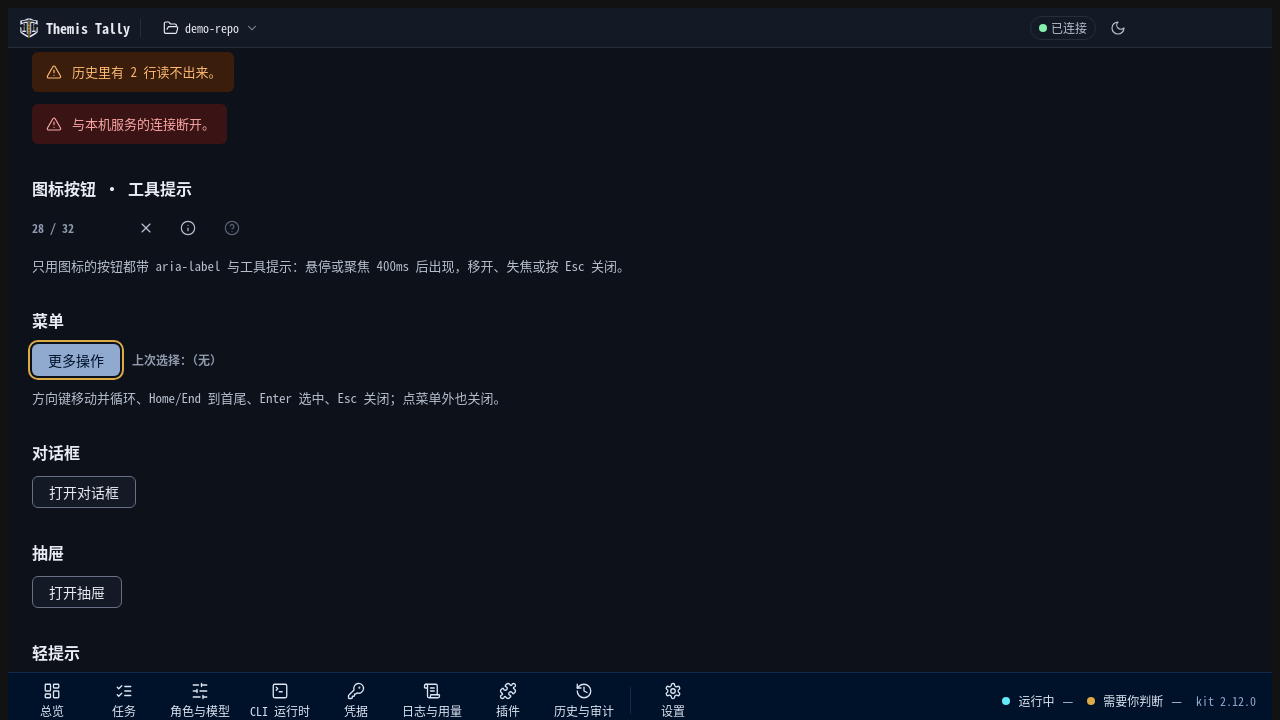
Test: 陈列页的 5 节浮层演示 › 菜单演示：「更多操作」打开菜单，Enter 选中后「上次选择：」变化
The image size is (1280, 720).
(page scrolled)
Click the button "更多操作". click: (76,360)
box: [32,344,120,376]
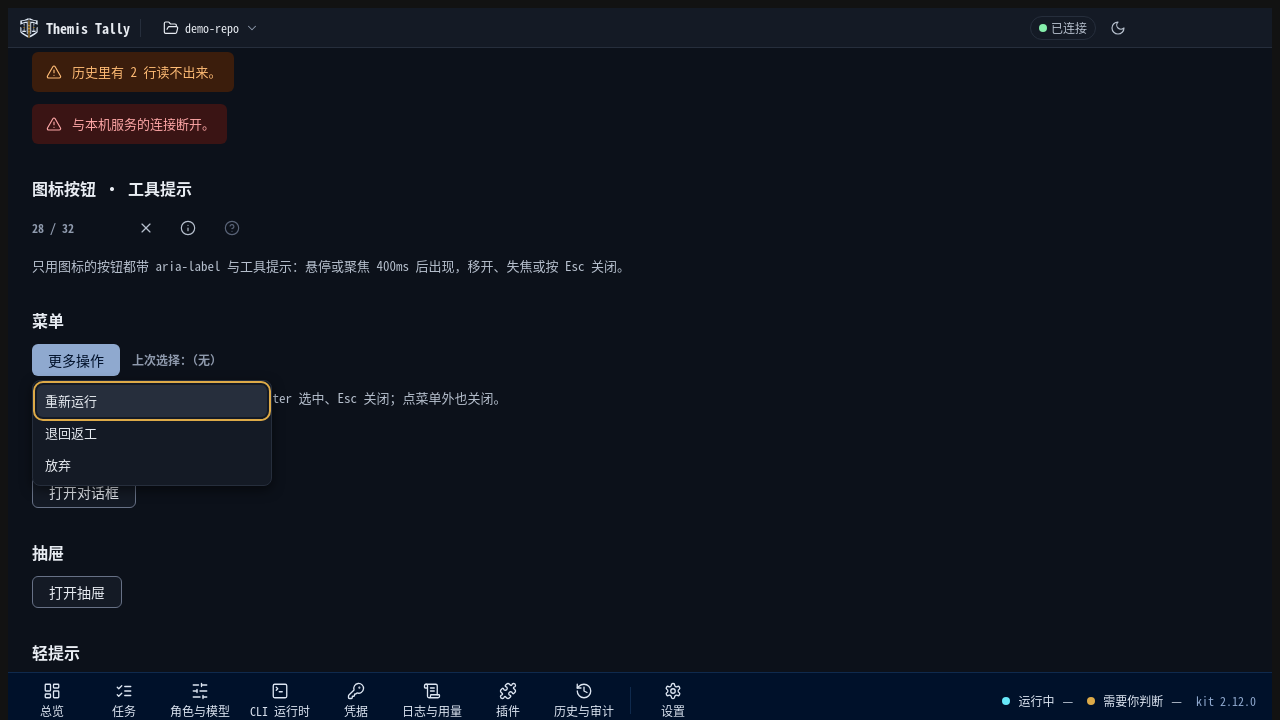
Result: the menu is shown at [32,380,272,486]
Press Enter in the menu item "重新运行", box [37,385,267,417]
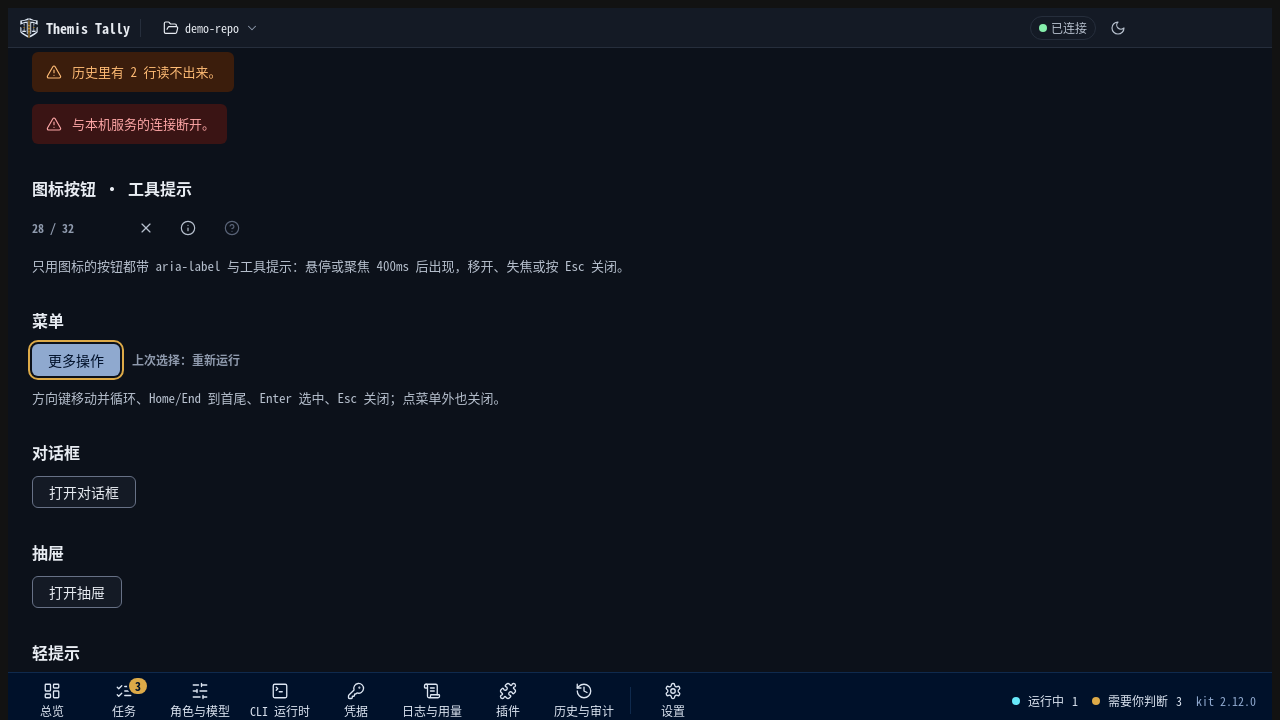
Result: the menu is gone
